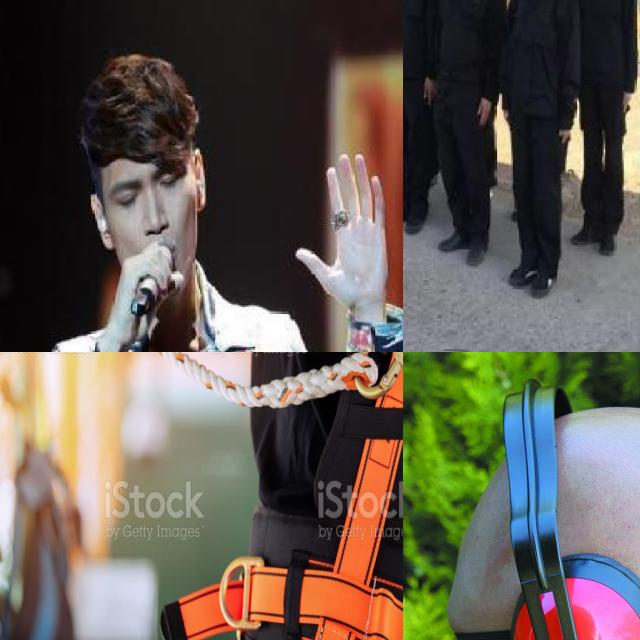Ear-protection: (493, 550, 640, 640)
Harness: (216, 352, 403, 640)
face_nomask: (106, 148, 200, 270)
hand_noglove: (291, 153, 391, 307), (111, 242, 185, 347), (474, 97, 492, 125), (422, 79, 436, 105), (622, 90, 633, 114), (558, 125, 572, 143), (502, 106, 510, 124)
head_nohelmet: (66, 59, 205, 167)
person: (0, 54, 403, 352), (502, 0, 577, 300), (440, 0, 502, 263), (577, 0, 634, 265), (403, 0, 443, 237)
shoes: (526, 260, 566, 302), (464, 230, 490, 274), (436, 230, 474, 256), (403, 207, 431, 240), (507, 260, 542, 286)
